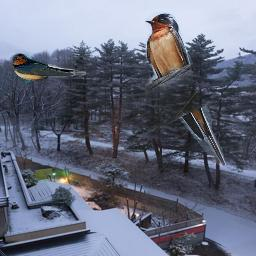Swallow: (145, 12, 226, 166), (11, 52, 86, 82)
